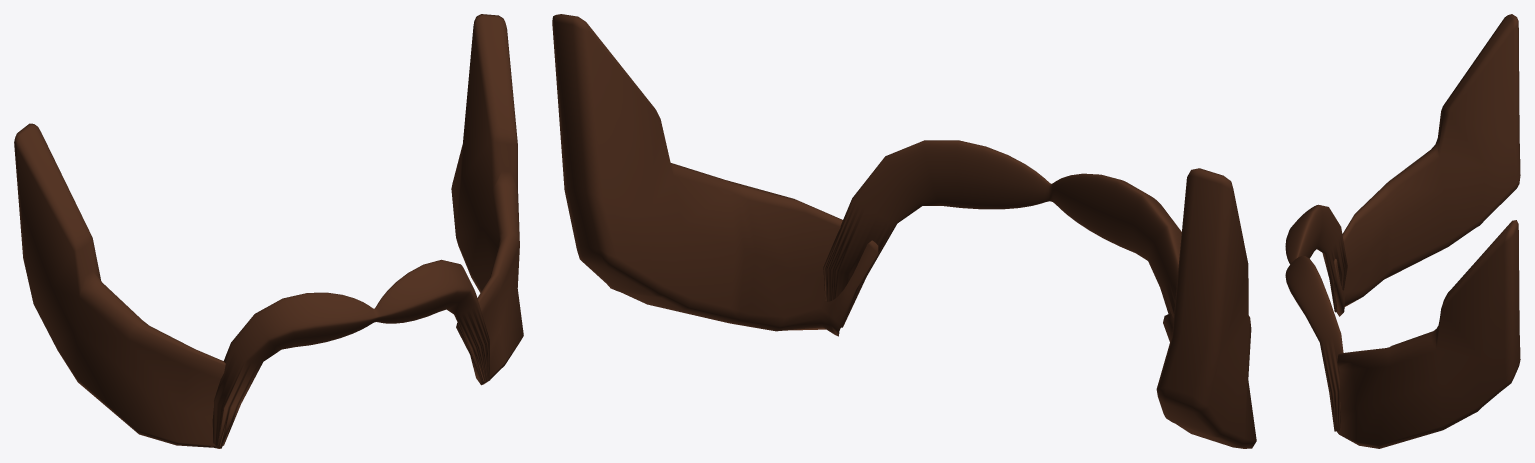
The picture shows the model from 3 angles, left to right: view 1: azimuth 30°, elevation 25°; view 2: azimuth 150°, elevation 25°; view 3: azimuth 270°, elevation 25°; orthographic projection. The views are drawn at different scales.
Parts seen in each view (by area): view 1: beardFullFriendlyMuttonchops; view 2: beardFullFriendlyMuttonchops; view 3: beardFullFriendlyMuttonchops.
Boxes of the visible parts, x1,y1,x2,y2 form: beardFullFriendlyMuttonchops: [14, 14, 523, 448]; beardFullFriendlyMuttonchops: [552, 14, 1256, 448]; beardFullFriendlyMuttonchops: [1285, 14, 1520, 448].
Bounding box in the file's own units: 0.4441 × 0.2408 × 0.2.
Materials: 1 (1 with a texture image).
